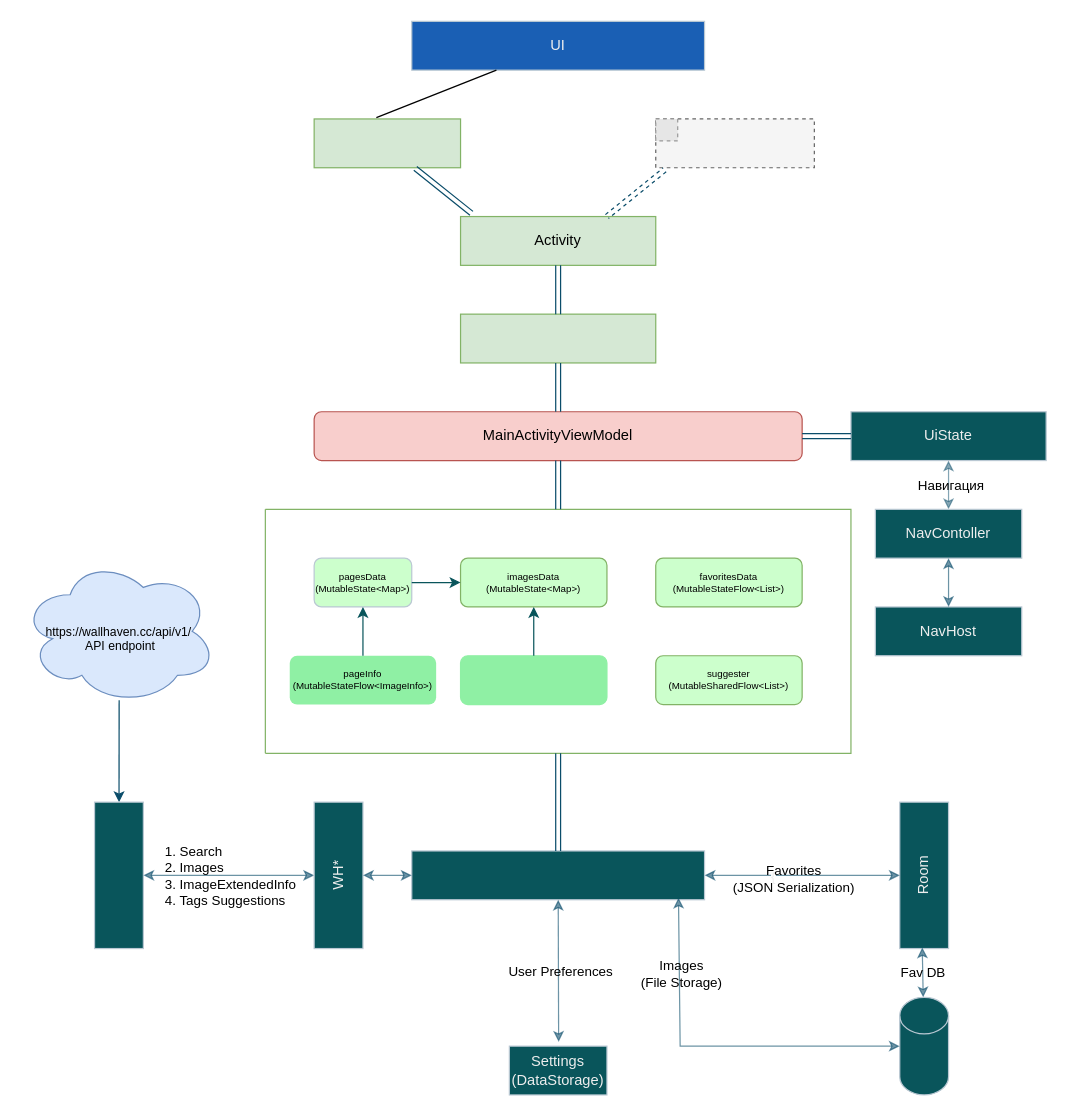
The diagram is 1068 pixels wide and 1116 high, and some of its shapes have lost their labels. Grey dashed boxes stand in for pictures. Here are the shapes that lost their labels. From the top down, the box of each, then its label:
(313, 118, 461, 168): Compose (Screens)
(655, 118, 814, 168): Fragments
(459, 313, 656, 363): Hilt
(264, 508, 851, 753): Основные данные
(459, 655, 607, 705): imageInfo (MutableStateFlow<pageInfo>)
(93, 801, 143, 949): Retrofit2
(411, 850, 705, 900): UiData
